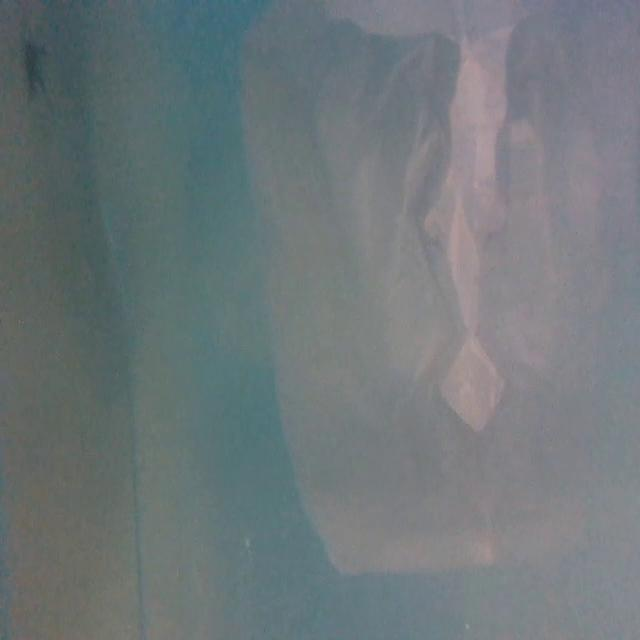plastic bags: (236, 3, 640, 572)
